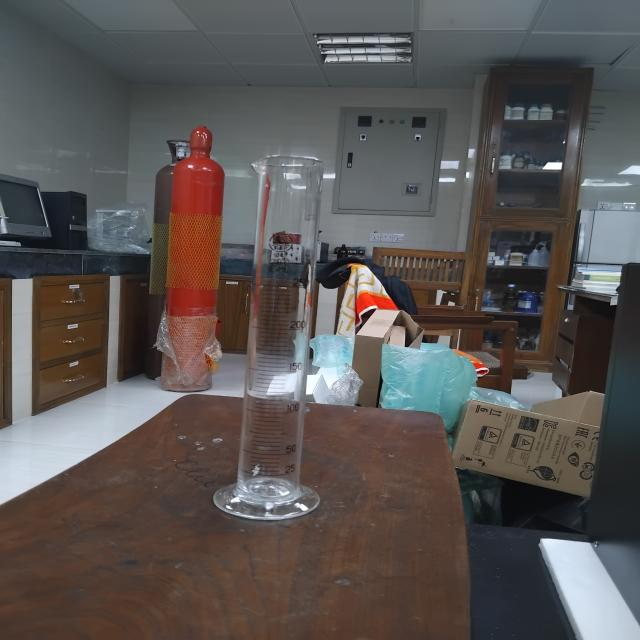Measuring_Cylinder: (163, 116, 390, 551)
